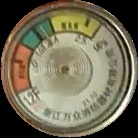green: (22, 20, 54, 50)
needle: (39, 24, 56, 51)
red: (9, 43, 35, 95)
yellow: (48, 10, 103, 39)
